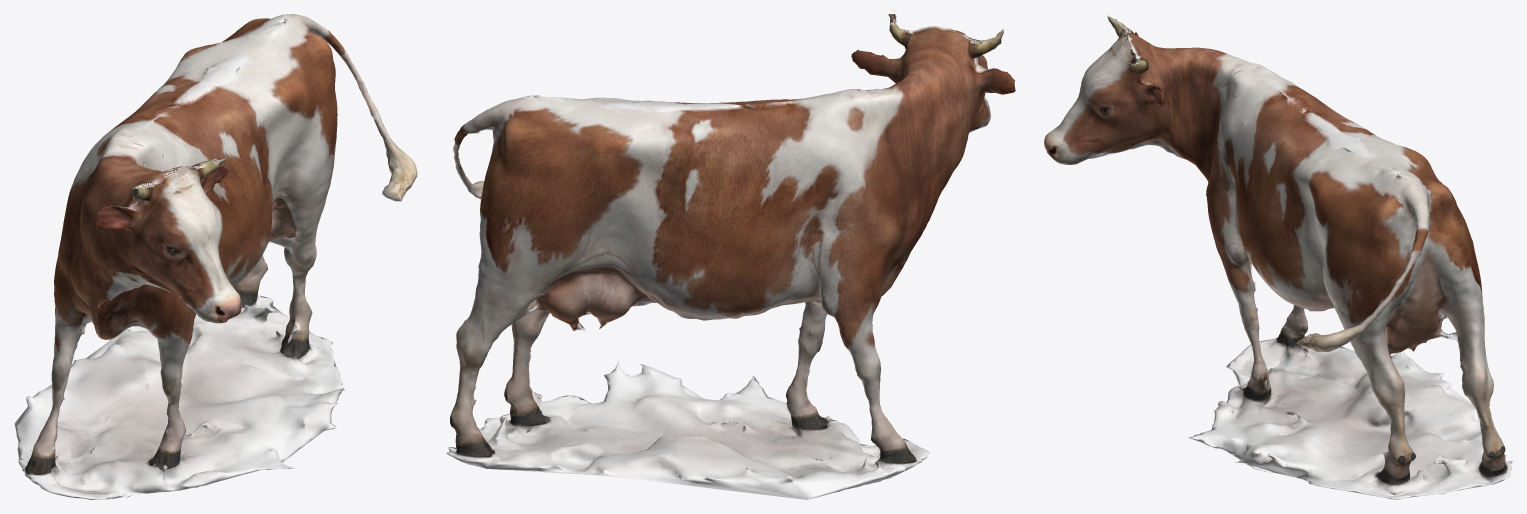
Rendered from cow.glb.
3 renders of one model, left to right at view 1: azimuth 30°, elevation 25°; view 2: azimuth 150°, elevation 25°; view 3: azimuth 270°, elevation 25°, orthographic. The views are drawn at different scales.
Visible parts, largest first — view 1: Textured_mesh_1_2; view 2: Textured_mesh_1_2; view 3: Textured_mesh_1_2.
Boxes of the visible parts, bbox=[...] form: Textured_mesh_1_2: bbox=[14, 14, 417, 499]; Textured_mesh_1_2: bbox=[446, 14, 1015, 499]; Textured_mesh_1_2: bbox=[1044, 14, 1512, 499].
Size of the model in its own units: 5.85 by 4.97 by 6.09.
1 material, 1 textured.
